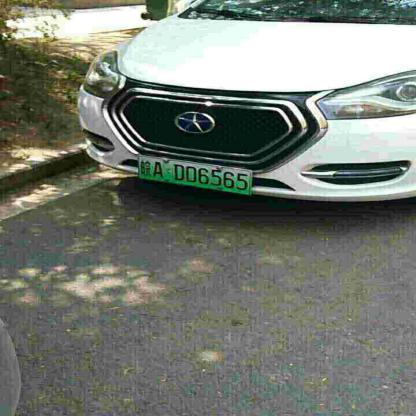lp: (138, 154, 250, 194)
